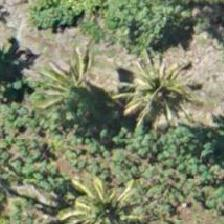coconut_tree: (104, 44, 194, 134), (46, 47, 136, 137), (65, 164, 155, 223)
